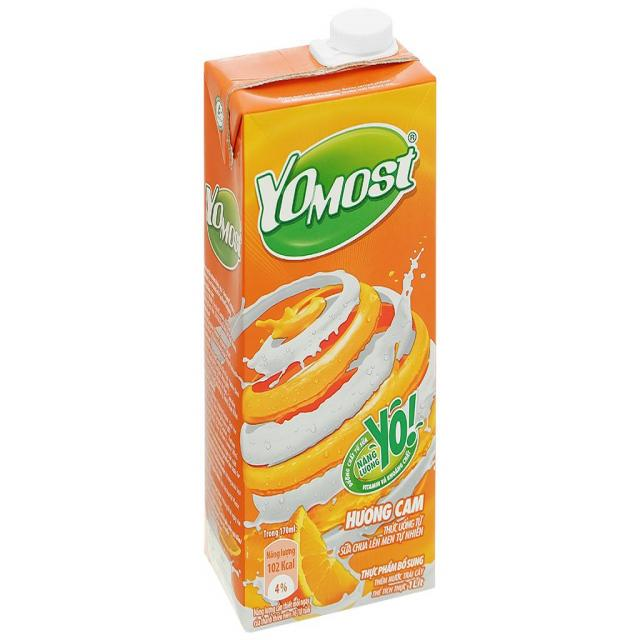non_white_jug: (194, 6, 458, 608)
